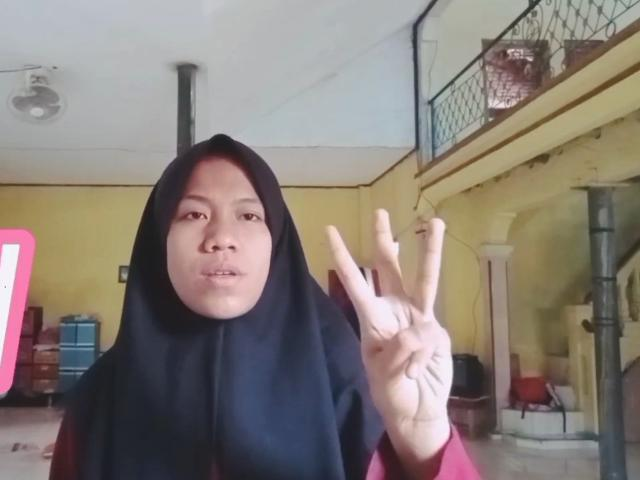W: (321, 208, 455, 430)
